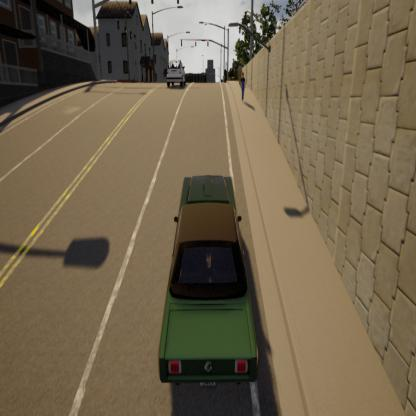Cars: (153, 150, 281, 416), (155, 40, 192, 102)
Pedestrian: (232, 57, 252, 121)
